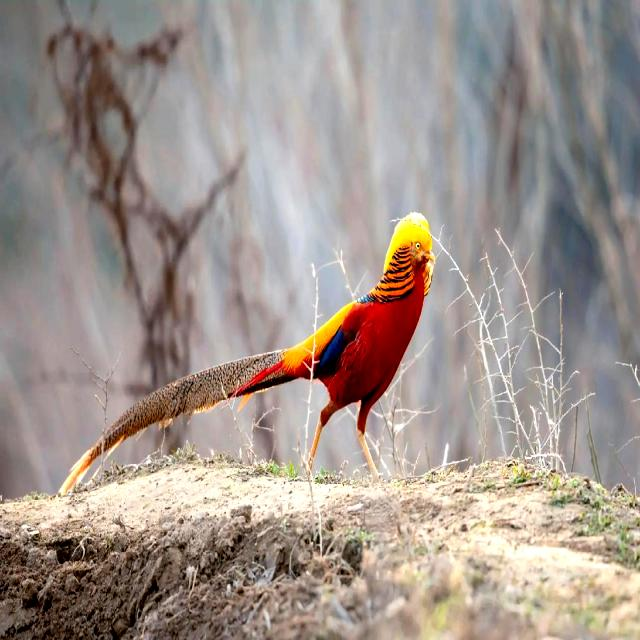Chrysolophus pictus feather: (57, 347, 299, 494)
